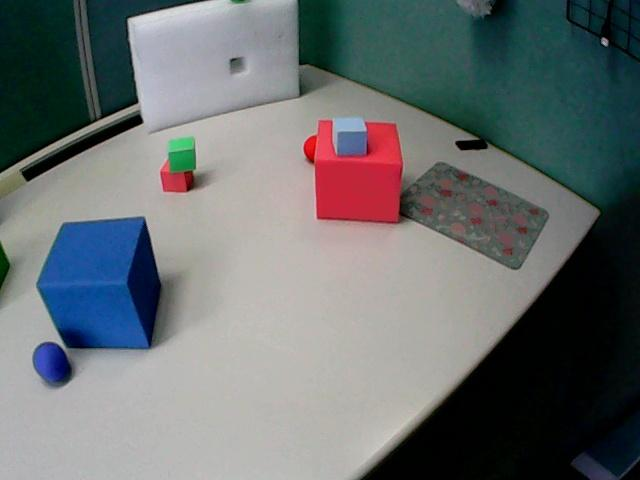blue_block: (37, 217, 161, 348), (571, 411, 639, 478), (333, 117, 367, 155)
red_block: (315, 120, 402, 222), (160, 160, 193, 191)
